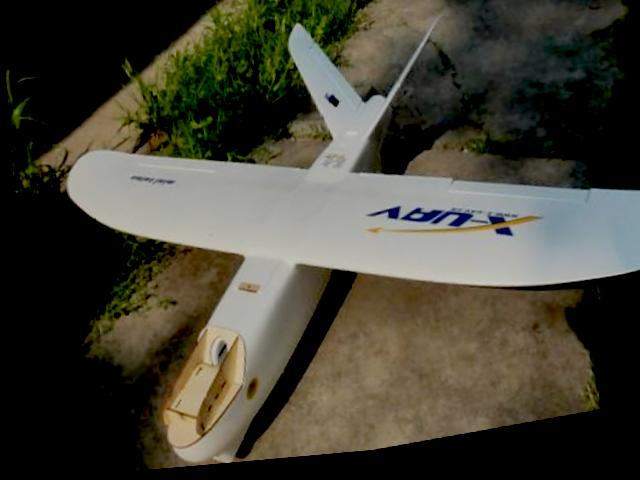uav: (33, 0, 640, 478)
